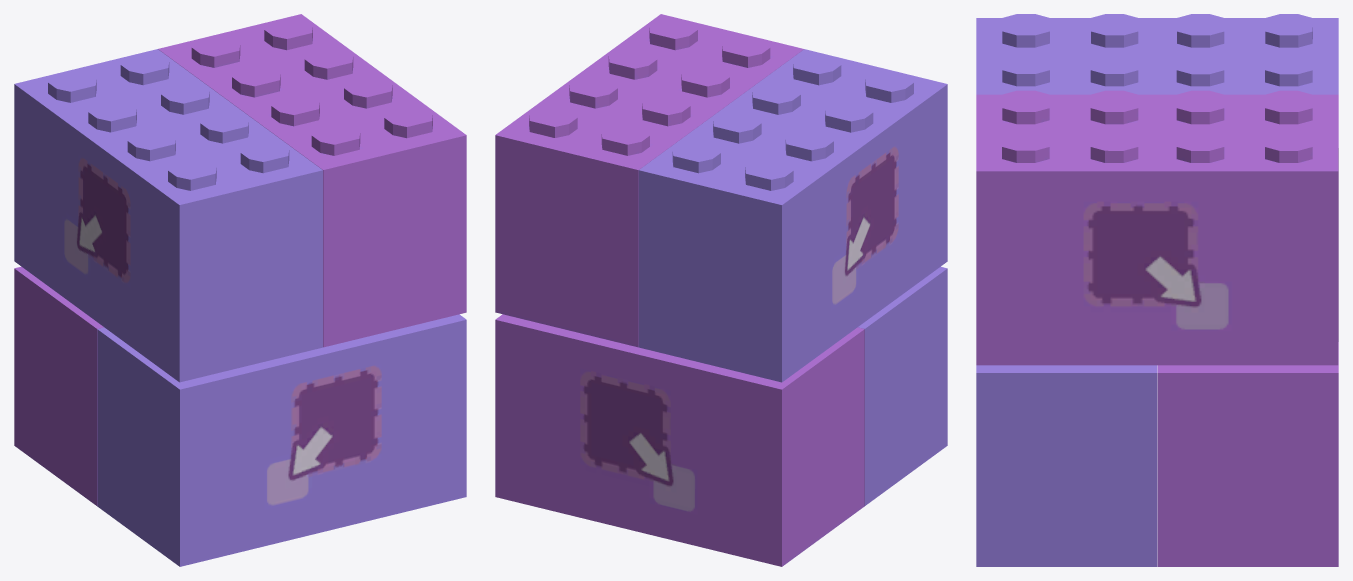
Rendered from InteractableBlock2x2Shrink_Hovered.fbx.
3 views of the same model, side by side, from view 1: azimuth 30°, elevation 25°; view 2: azimuth 150°, elevation 25°; view 3: azimuth 270°, elevation 25° (orthographic). The views are drawn at different scales.
Visible parts, largest first — view 1: Cube.032; view 2: Cube.032; view 3: Cube.032.
Boxes of the visible parts, x1,y1,x2,y2 form: Cube.032: [14, 14, 466, 566]; Cube.032: [495, 14, 947, 566]; Cube.032: [976, 14, 1338, 566].
Size of the model in its own units: 305 by 378 by 304.
